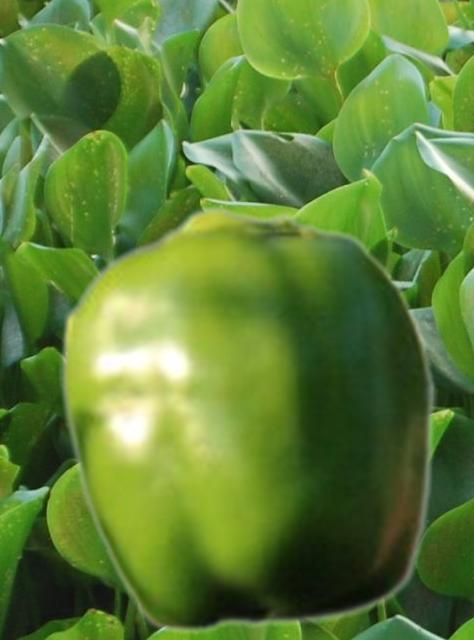bell_pepper: (59, 204, 436, 634)
